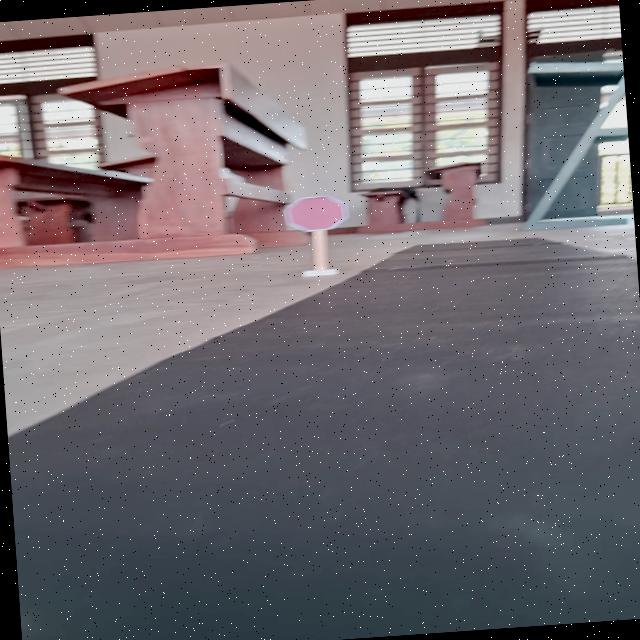Stop: (280, 192, 352, 234)
